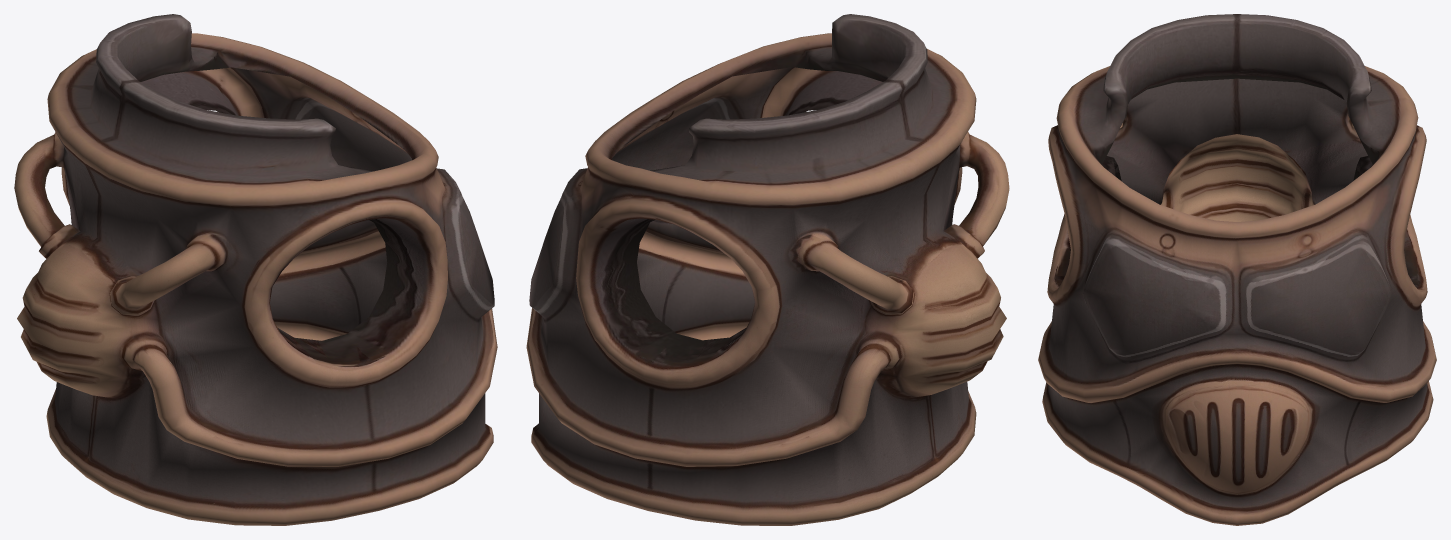
Rendered from Armor01.fbx.
3 renders of one model, left to right at view 1: azimuth 30°, elevation 25°; view 2: azimuth 150°, elevation 25°; view 3: azimuth 270°, elevation 25°, orthographic. The views are drawn at different scales.
Parts seen in each view (by area): view 1: tripo_node_931bd54f; view 2: tripo_node_931bd54f; view 3: tripo_node_931bd54f.
Part boxes in pixels (x1=…): tripo_node_931bd54f: x1=14, y1=14, x2=497, y2=525; tripo_node_931bd54f: x1=526, y1=14, x2=1009, y2=525; tripo_node_931bd54f: x1=1038, y1=14, x2=1436, y2=525.
Bounding box in the file's own units: 52.99 × 49.36 × 47.95.
